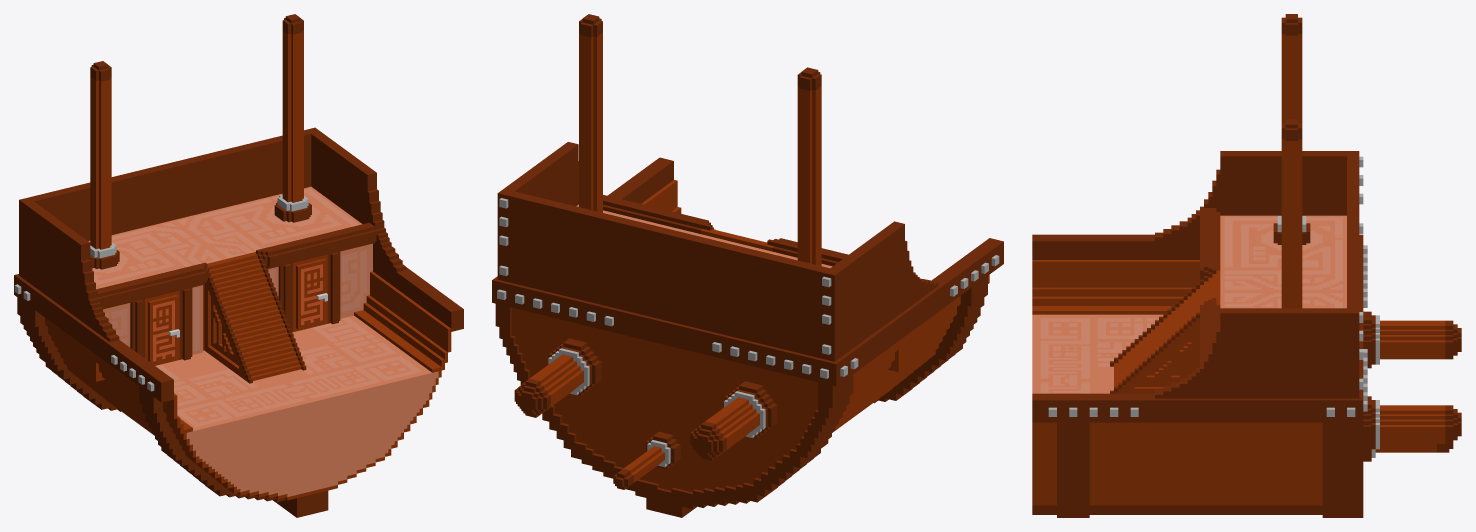
Rendered from BoatBack.obj.
3 renders of one model, left to right at view 1: azimuth 30°, elevation 25°; view 2: azimuth 150°, elevation 25°; view 3: azimuth 270°, elevation 25°, orthographic. The views are drawn at different scales.
Bounding box in the file's own units: 98 × 118 × 105.
1 material, 1 textured.
